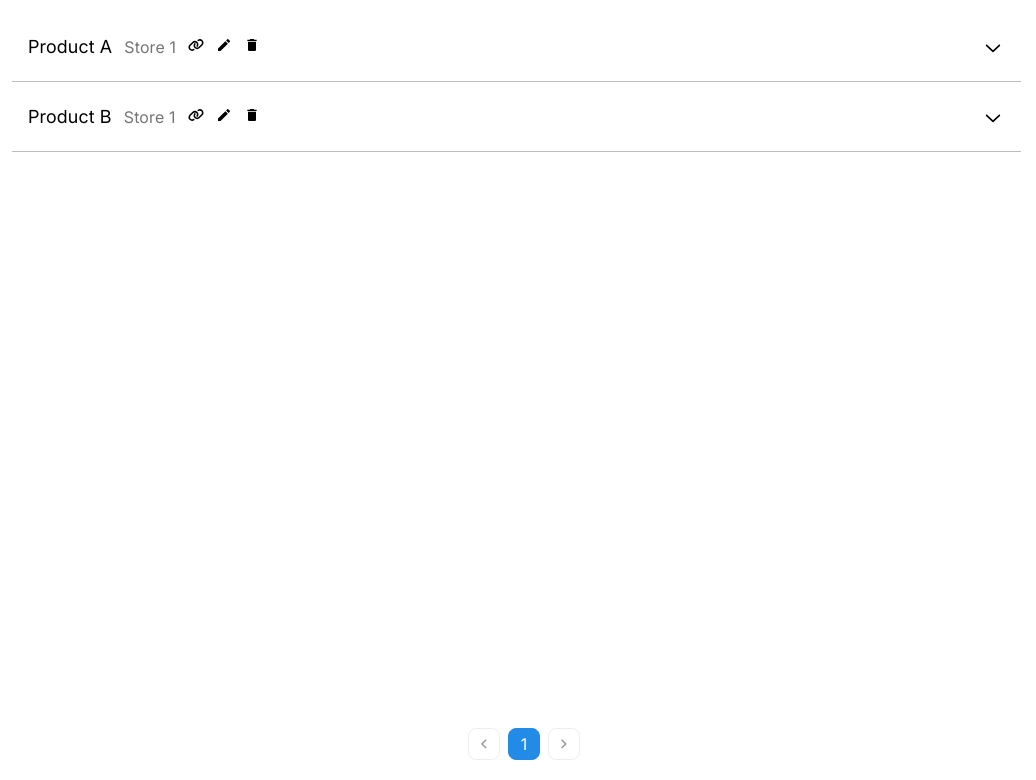
Test: Product List Component › should keep the open product open when a product is added above it
Click the button "Product B Store 1".
click(70, 116)  # box [12,82,1021,151]
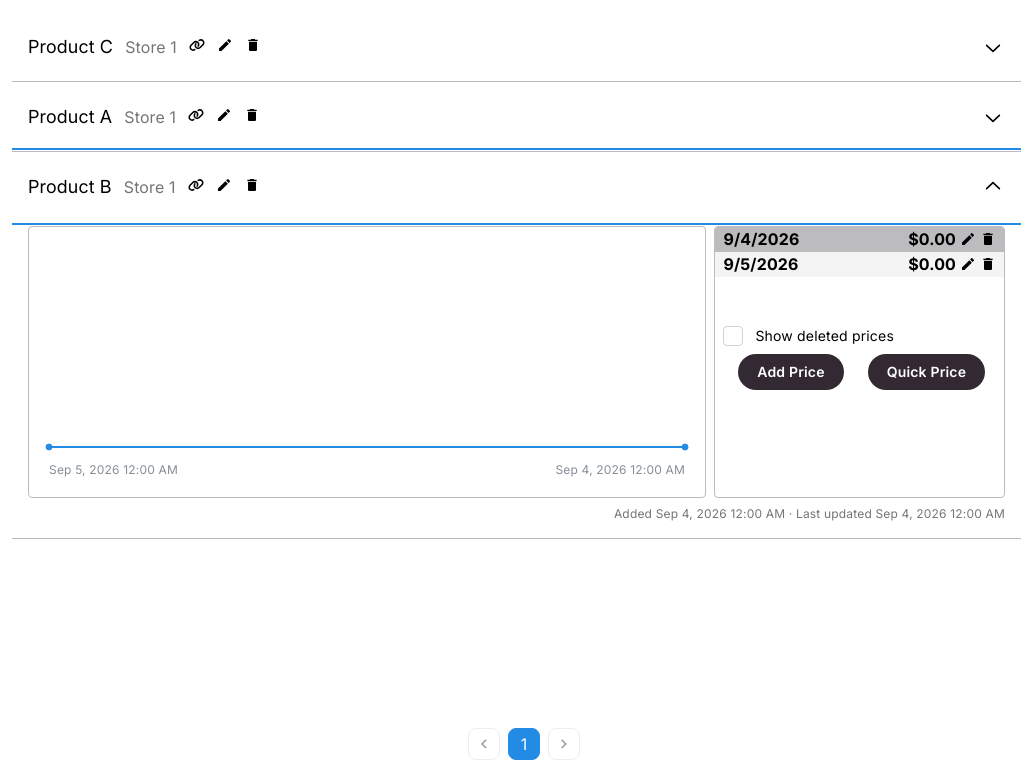
Now the button "Product C Store 1" is shown, box [12,12,1021,81]
